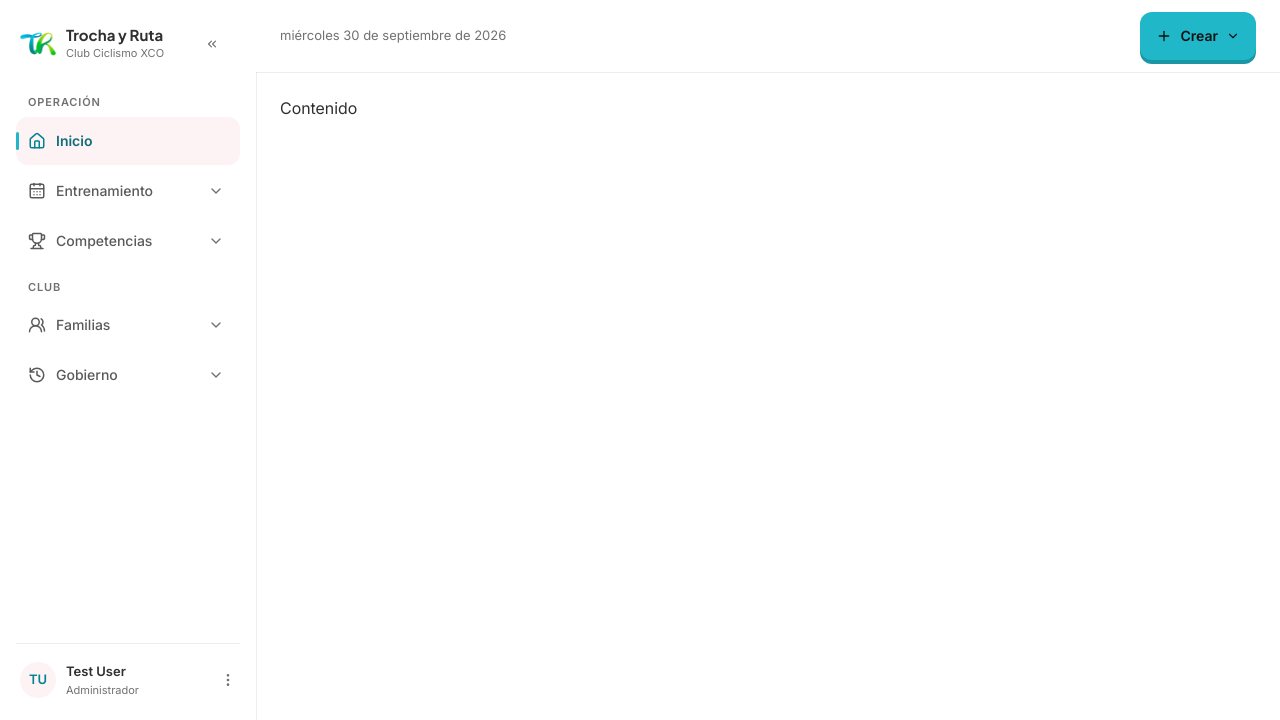
Test: AppShell › acciones de header — UserMenu + QuickCreate (coach/admin) › admin: el user menu revela 'Mi perfil', 'Salud IA' (/admin/ai) y 'Cerrar sesión'
This screenshot has width=1280, height=720.
Click the button with test id "user-menu-trigger" at (128, 680), box [16,656,240,704]
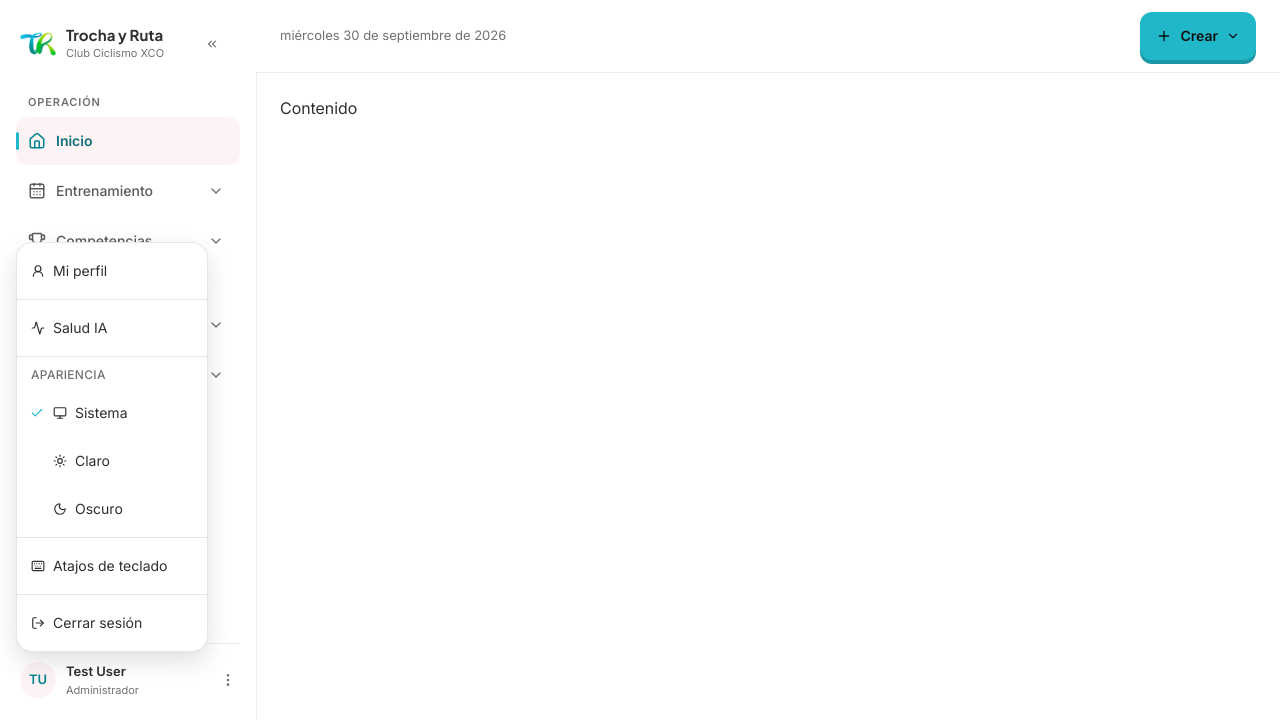
Now the menu item "Cerrar sesión" is shown, box [31,614,142,631]
